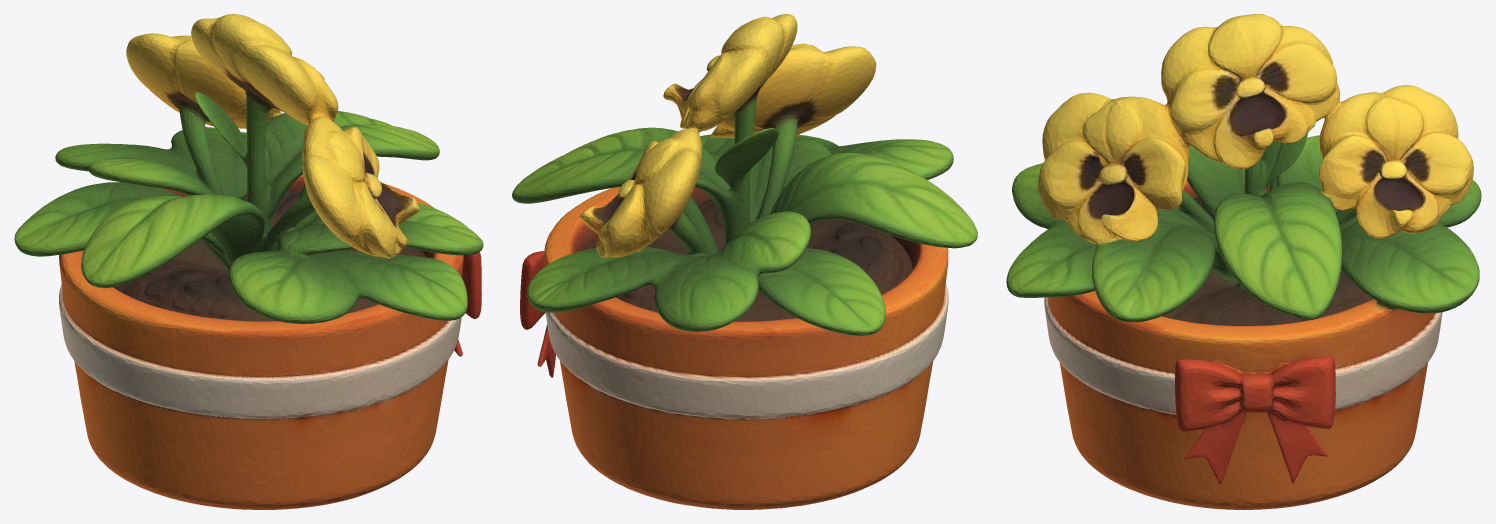
Rendered from flower_8.glb.
The picture shows the model from 3 angles, left to right: view 1: azimuth 30°, elevation 25°; view 2: azimuth 150°, elevation 25°; view 3: azimuth 270°, elevation 25°; orthographic projection.
Visible parts, largest first — view 1: tripo_node_57803f02-7502-4372-953f-3afb66fe29a6; view 2: tripo_node_57803f02-7502-4372-953f-3afb66fe29a6; view 3: tripo_node_57803f02-7502-4372-953f-3afb66fe29a6.
Boxes of the visible parts, x1,y1,x2,y2 form: tripo_node_57803f02-7502-4372-953f-3afb66fe29a6: (14, 14, 483, 509); tripo_node_57803f02-7502-4372-953f-3afb66fe29a6: (512, 14, 977, 509); tripo_node_57803f02-7502-4372-953f-3afb66fe29a6: (1006, 14, 1481, 509).
Size of the model in its own units: 0.955 by 0.9836 by 0.9994.
Materials: 1 (1 with a texture image).
